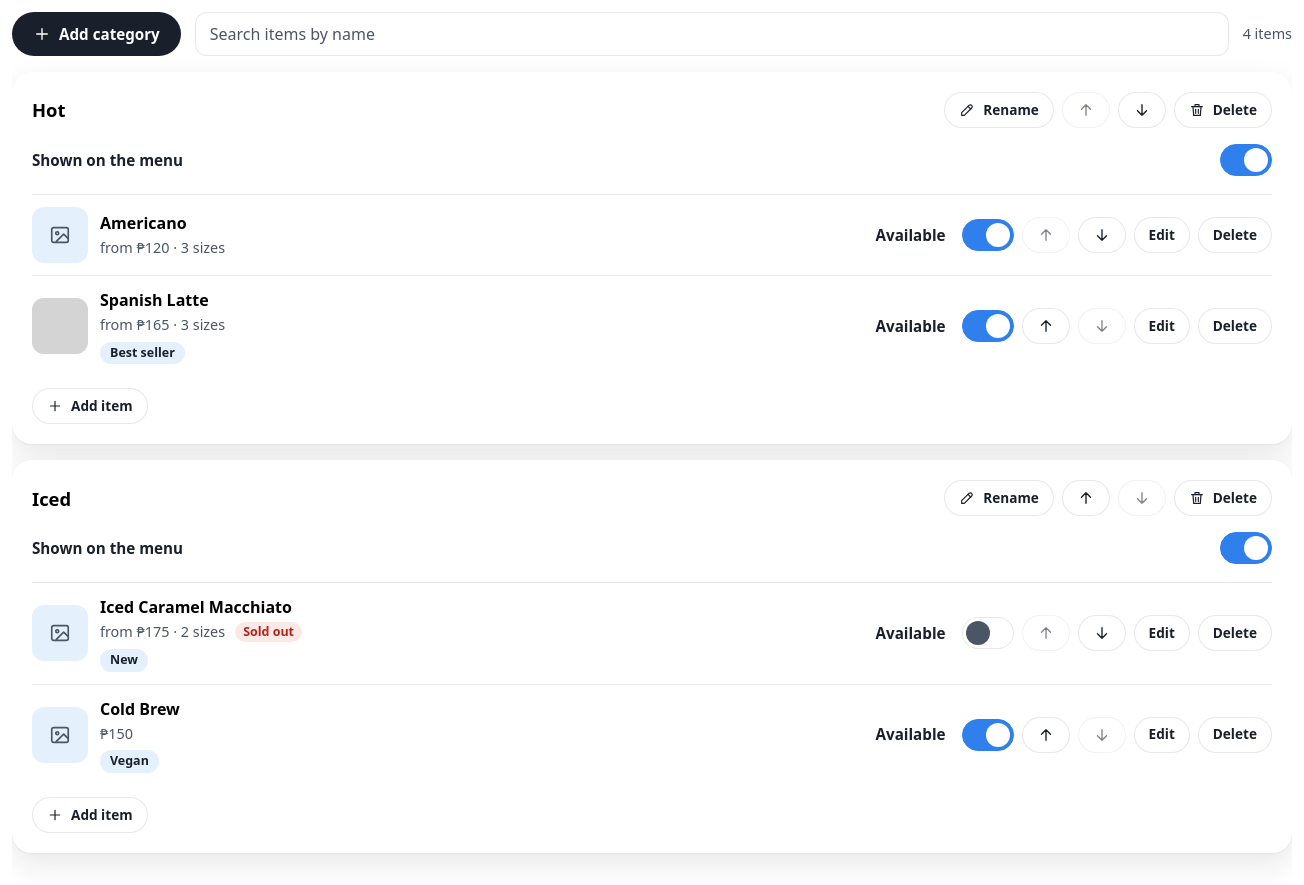
it: ItemsTab changes a category › renames it in place and returns the focus to Rename
Click the button with aria-label "Rename Hot" at (999, 110), box [944, 92, 1054, 128]
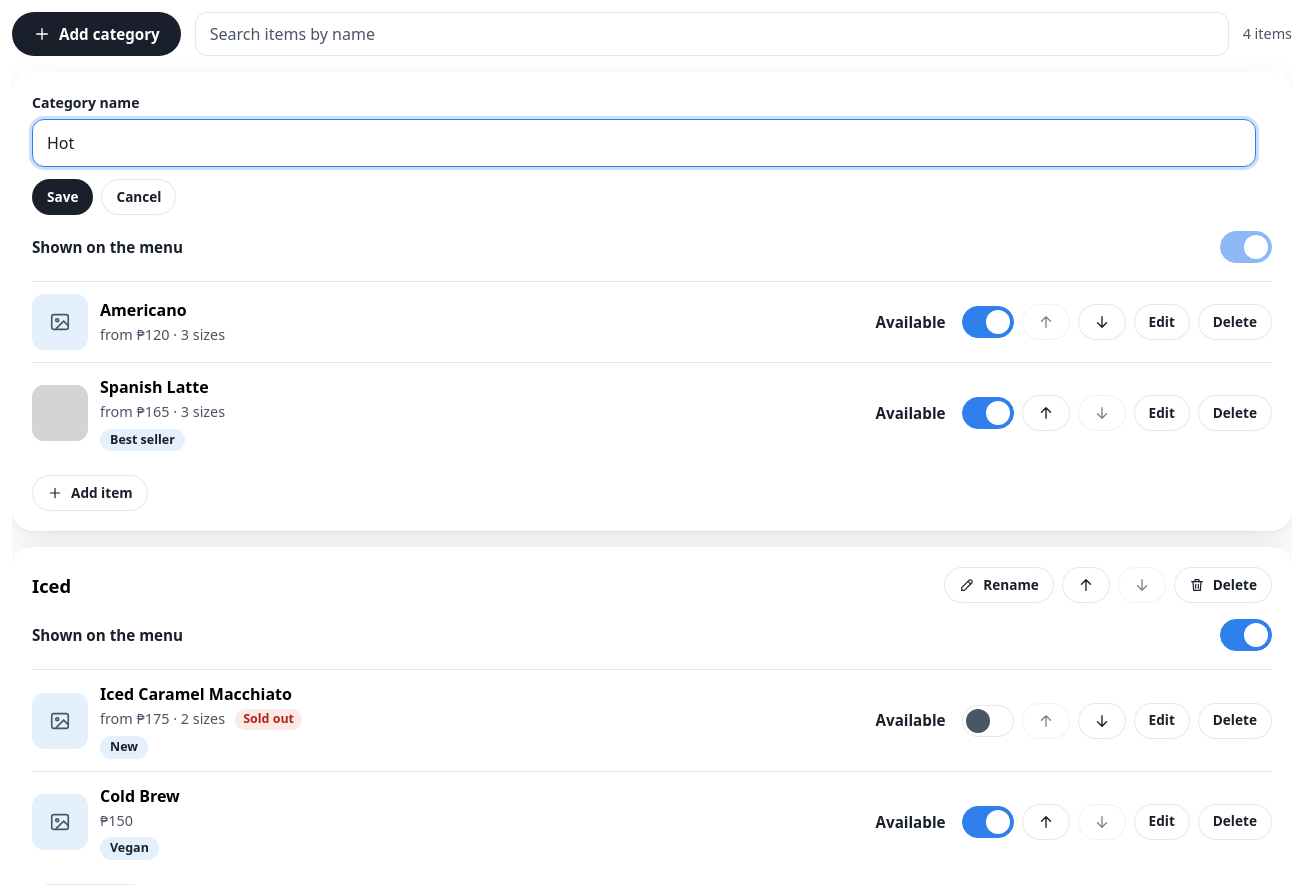
Expected: the field labelled "Category name" holds "Hot"
Replace the text in the field labelled "Category name" with "Hot drinks" at (644, 143), box [32, 119, 1256, 167]
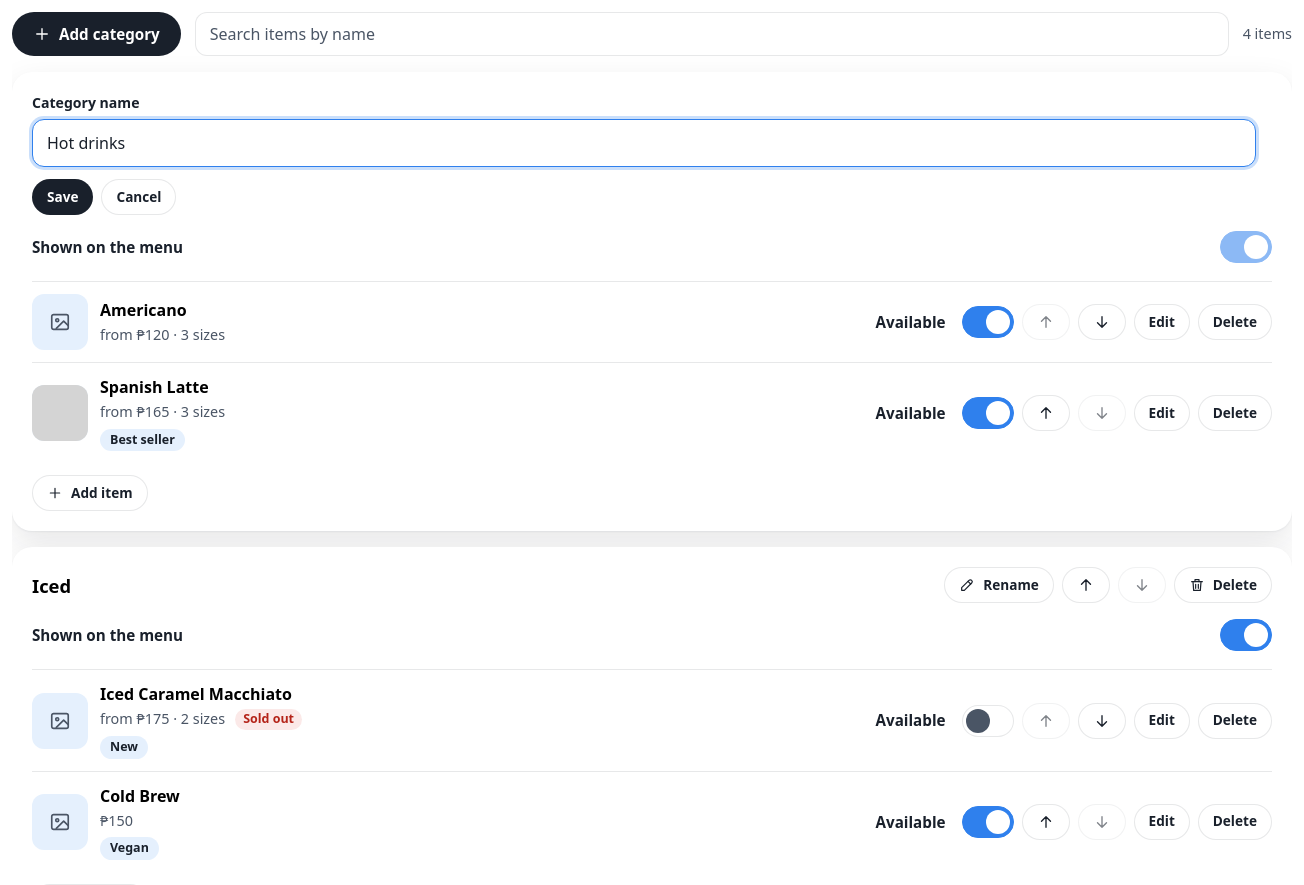
Click the button "Save" at (63, 197), box [32, 179, 94, 215]
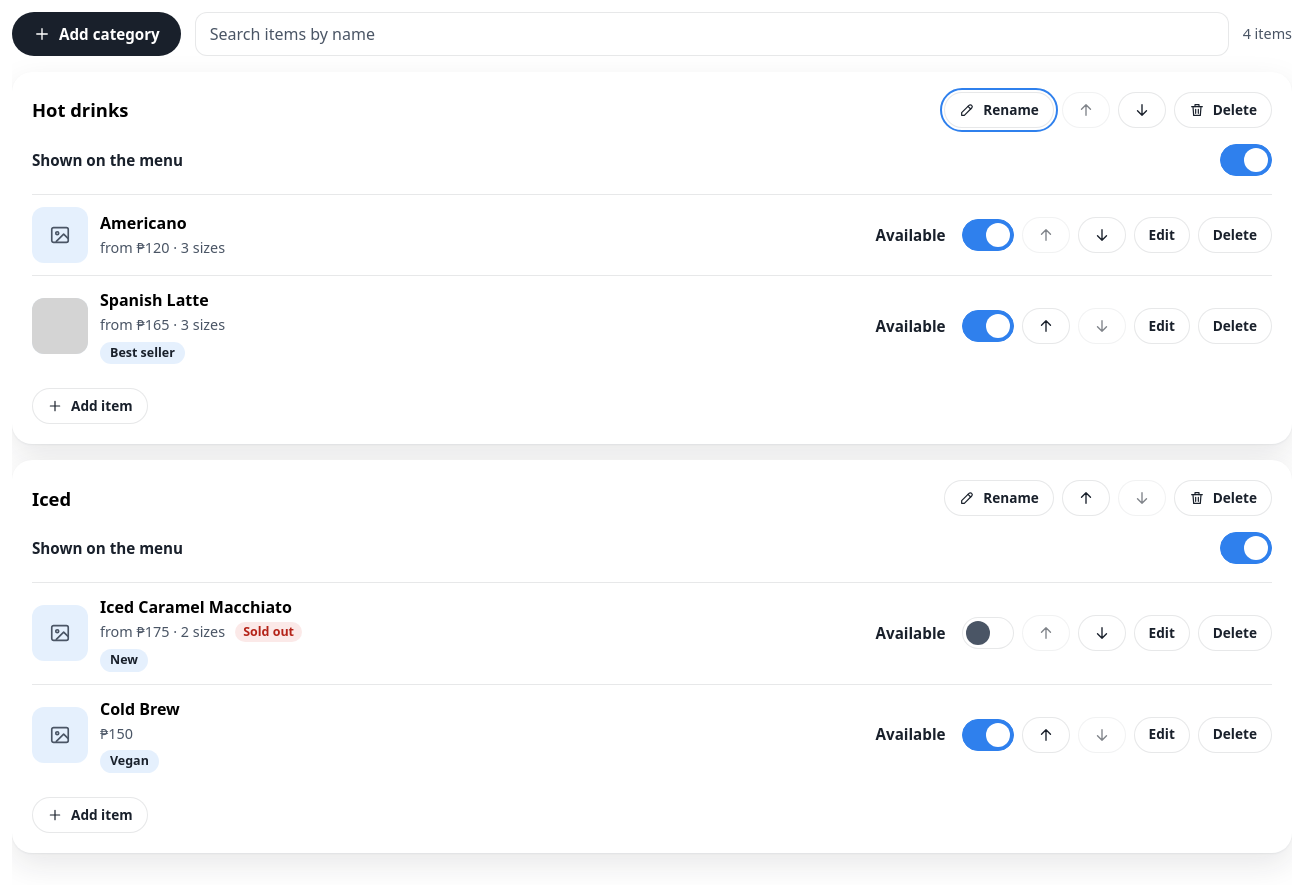
Expected: the heading "Hot drinks" is shown, [32, 97, 128, 122]
